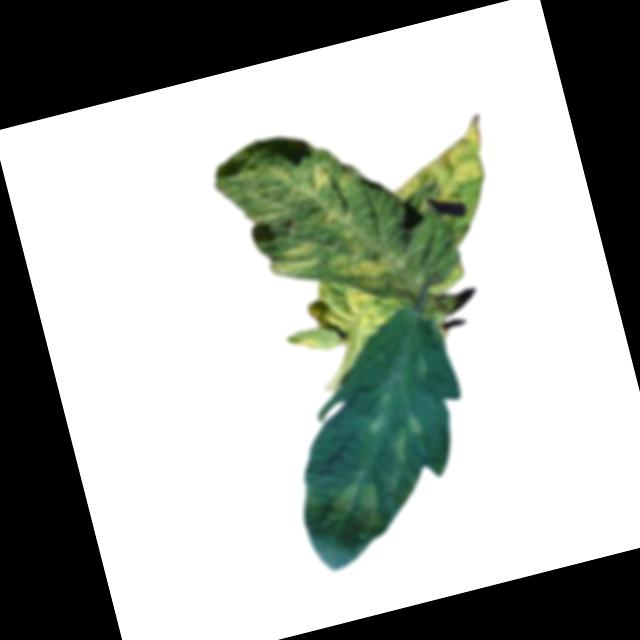Leaf_Mold: (378, 113, 497, 212), (277, 281, 390, 357), (310, 469, 390, 552), (328, 237, 407, 289), (286, 155, 343, 206), (385, 409, 431, 466), (263, 235, 321, 280), (316, 197, 359, 232)
